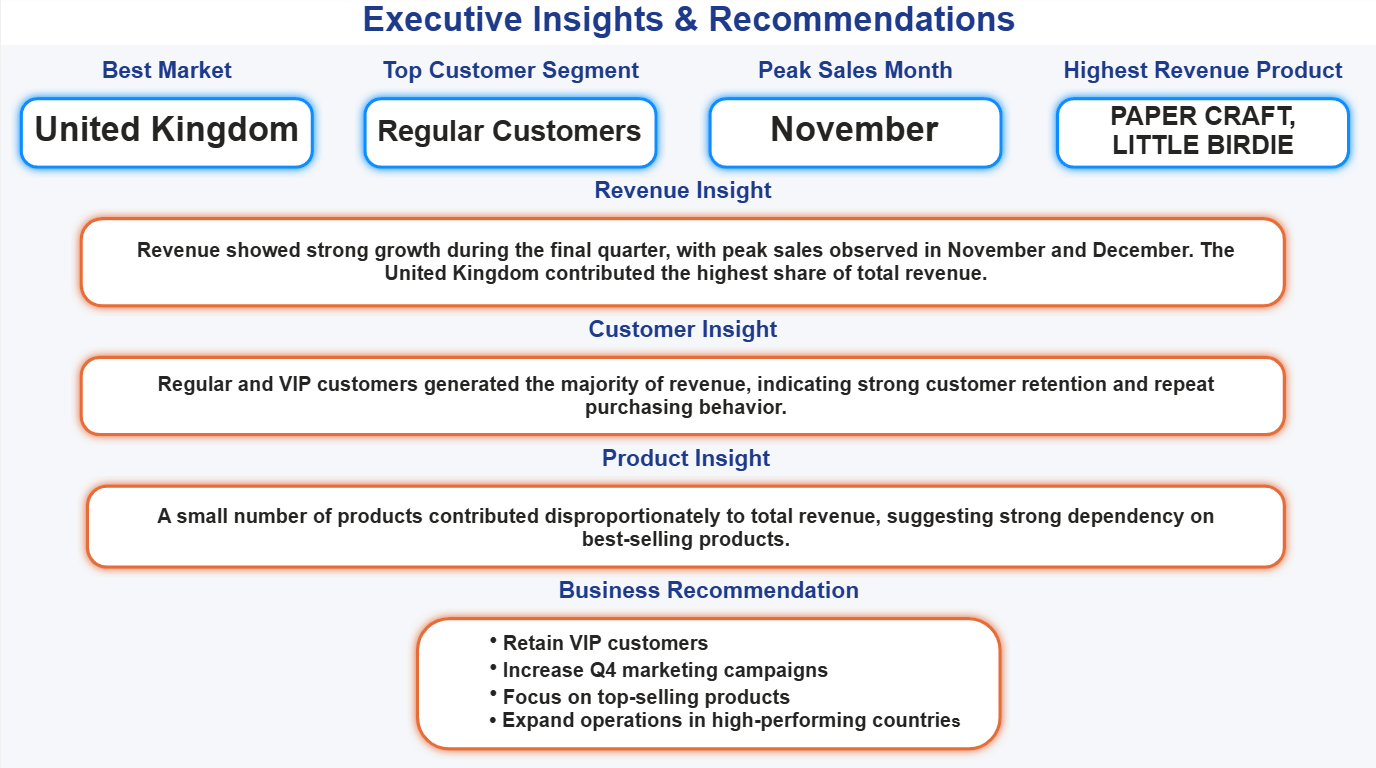

The page's visual inventory and layout, read from the dashboard file:
{"tool":"powerbi","page":{"name":"Executive Insights","canvas":[1280,720],"ordinal":3},"visuals":[{"type":"textbox","box":[0,0,1280.2,46.6],"z":0},{"type":"shape","title":"Best Market","box":[9.3,58.2,289.8,111.7],"z":1000},{"type":"shape","title":"Top Customer Segment","box":[329.4,58.2,289.8,111.7],"z":2000},{"type":"shape","title":"Peak Sales Month","box":[649.4,58.2,289.8,111.7],"z":3000},{"type":"shape","title":"Highest Revenue Product","box":[973,58.2,289.8,111.7],"z":4000},{"type":"textbox","box":[687.8,102.4,210.7,47.7],"z":5000},{"type":"textbox","box":[18.6,102.4,271.2,59.4],"z":6000},{"type":"textbox","box":[988.1,94.3,259.5,67.5],"z":7000},{"type":"textbox","box":[338.6,107.1,269.3,54.3],"z":8000},{"type":"shape","title":"Revenue Insight","box":[65.2,169.9,1138.2,129.2],"z":9000},{"type":"textbox","box":[116.4,222.3,1041.6,68.7],"z":10000},{"type":"shape","title":"Customer Insight","box":[65.2,299.1,1138.2,119.9],"z":11000},{"type":"shape","title":"Business Recommendation","box":[377.4,542.1,561,169.2],"z":12000},{"type":"shape","title":"Product Insight","box":[71,419,1132.4,123.4],"z":13000},{"type":"textbox","box":[116.4,346.8,1041.6,62.8],"z":14000},{"type":"textbox","box":[116.4,470.2,1041.6,60.5],"z":15000},{"type":"textbox","box":[434.1,585.4,519.1,125.7],"z":16000}]}

Visuals, with their boxes in screenshot pixels (x1, y1, x2, y2), scaled from the page's 1280x720 canvas onto the 1376x768 screenshot:
textbox: 0,0,1375,50
"Best Market" shape: 10,62,322,181
"Top Customer Segment" shape: 354,62,666,181
"Peak Sales Month" shape: 698,62,1010,181
"Highest Revenue Product" shape: 1046,62,1358,181
textbox: 739,109,966,160
textbox: 20,109,312,173
textbox: 1062,101,1341,173
textbox: 364,114,653,172
"Revenue Insight" shape: 70,181,1294,319
textbox: 125,237,1245,310
"Customer Insight" shape: 70,319,1294,447
"Business Recommendation" shape: 406,578,1009,759
"Product Insight" shape: 76,447,1294,579
textbox: 125,370,1245,437
textbox: 125,502,1245,566
textbox: 467,624,1025,759
